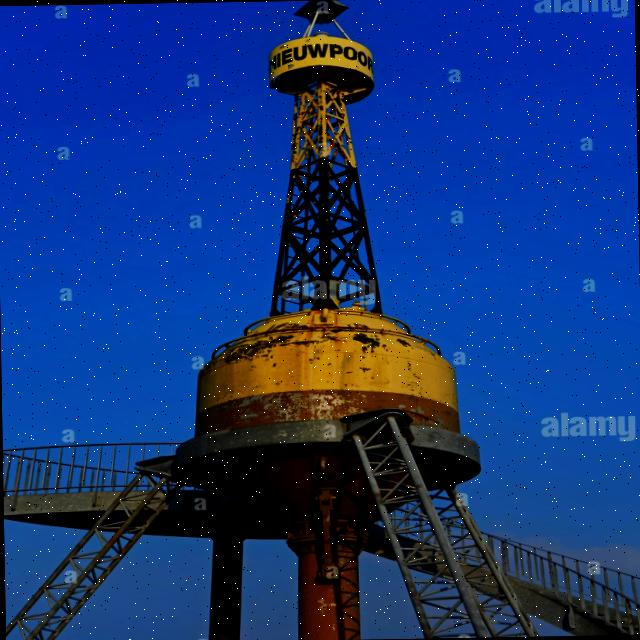marque: (168, 1, 475, 487)
